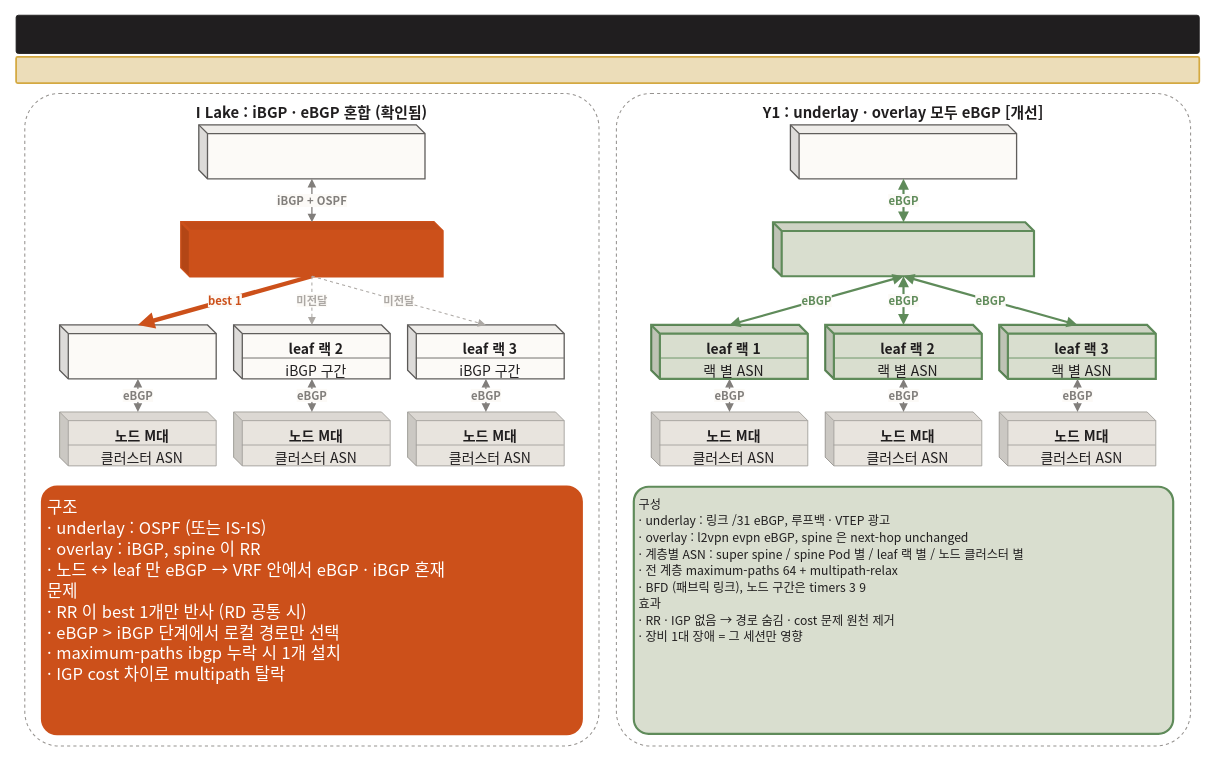
Some shapes in this 1215 by 762 pixel diagram are drawn without their labels. Here are the shapes that lost their labels. From the top down, the centre of each, then its label:
point (607, 34): 그림 2-3. 패브릭 BGP 구조 : iBGP + RR + IGP → eBGP 단일화
point (607, 70): 계층마다 ASN 을 나눠 eBGP 로 통일 → RR · IGP 없이 모든 경로가 그대로 전달되고, 장비별 장애가 독립
point (311, 151): Super Spine iBGP 구간
point (903, 151): Super Spine 계층 ASN
point (311, 249): Spine iBGP RR · best 1 반사
point (903, 249): Spine Pod 별 ASN
point (137, 351): leaf 랙 1 iBGP 구간
